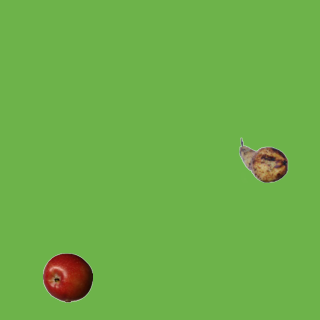Apple Braeburn: (42, 252, 92, 302)
Pear Abate: (238, 135, 288, 185)
